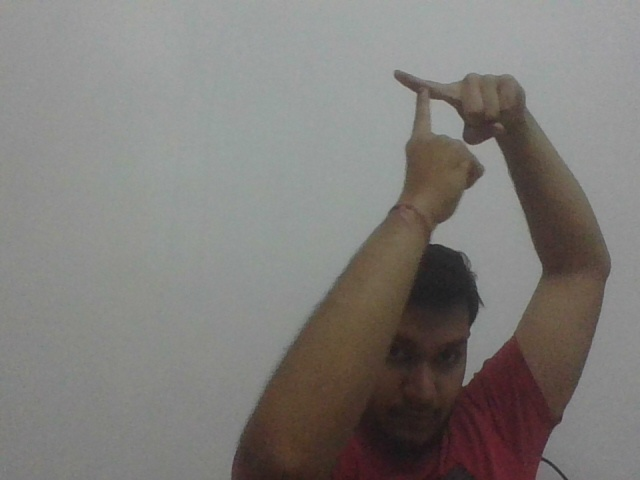T: (390, 65, 450, 133)
